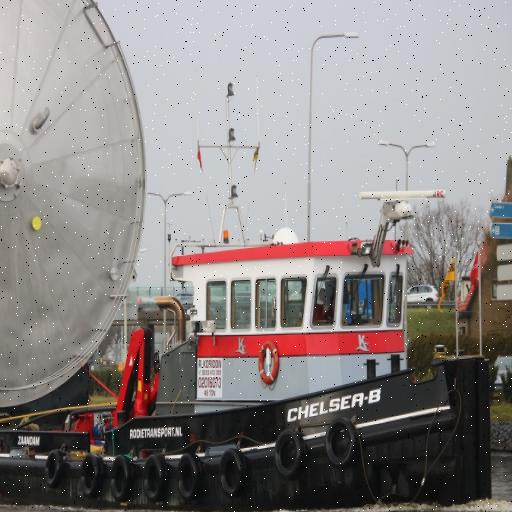tugboat: (1, 182, 497, 512)
